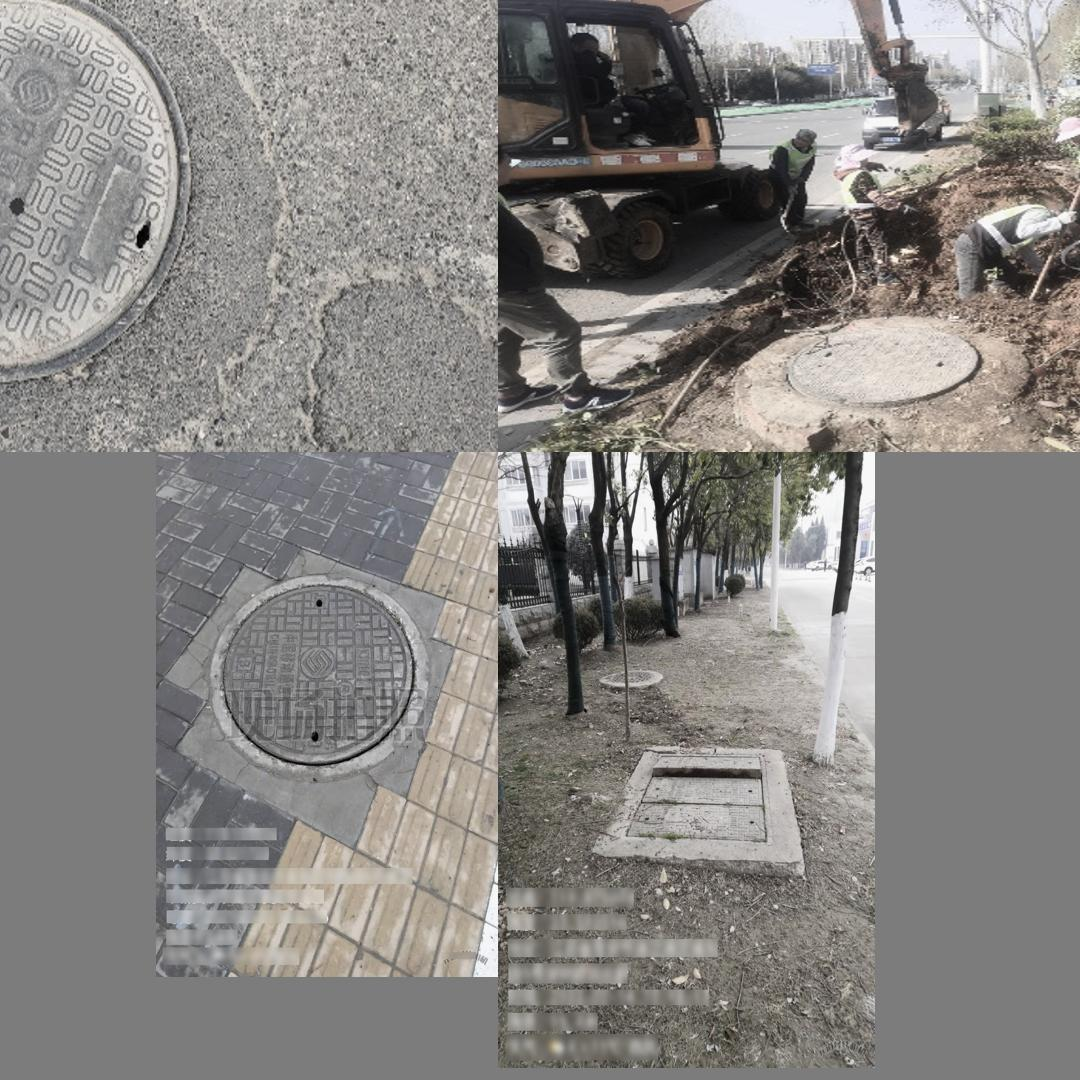good: (0, 0, 197, 393), (208, 574, 429, 782), (782, 324, 985, 409), (598, 671, 656, 689)
uncovered: (619, 750, 773, 847)
